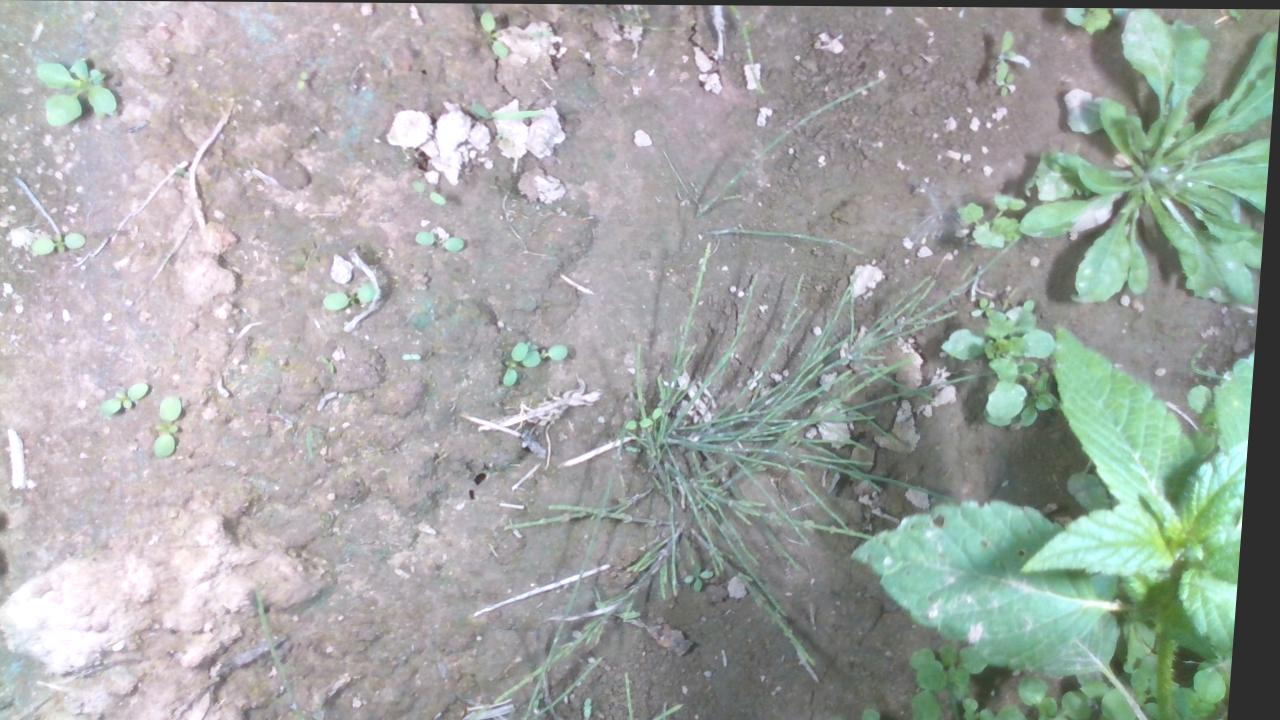weed: (32, 54, 122, 125), (157, 392, 189, 456), (103, 380, 156, 415), (476, 9, 513, 59), (325, 280, 382, 310), (30, 230, 90, 255), (415, 228, 470, 250), (411, 178, 450, 206), (295, 68, 310, 88)
